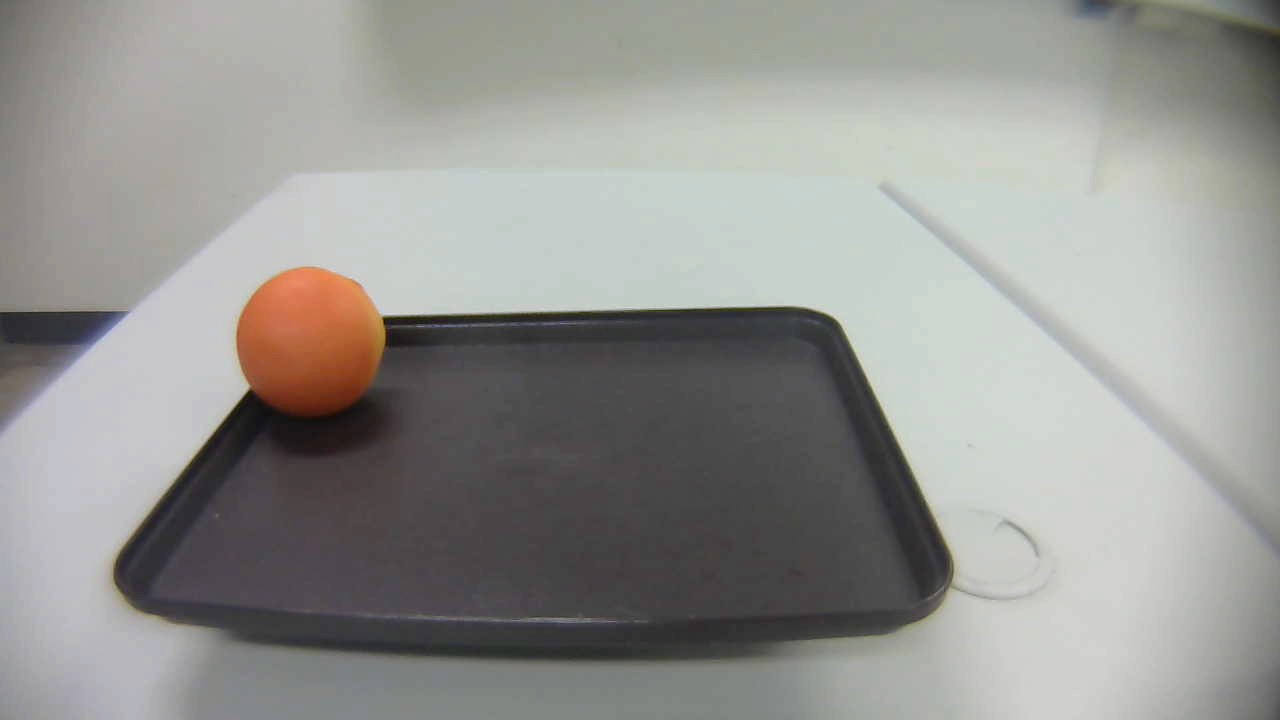bun: (237, 263, 387, 416)
